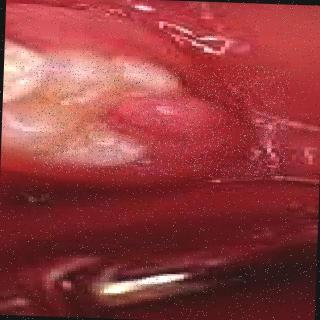Gum Swelling: (98, 91, 254, 192)
